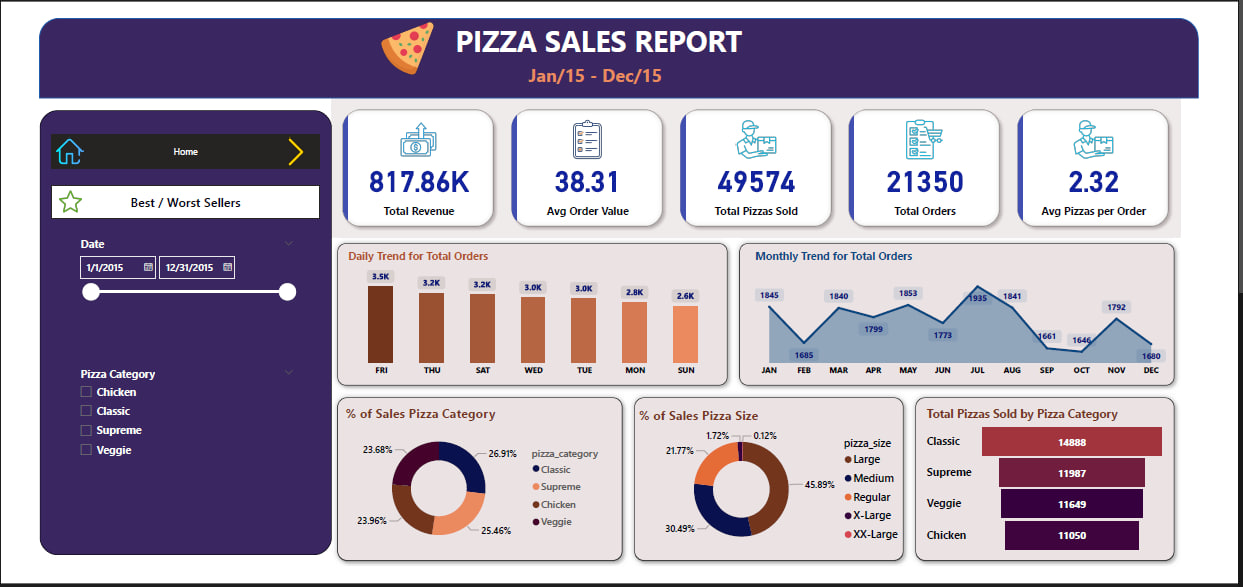

What the dashboard file says about the page in this screenshot:
{"tool":"powerbi","page":{"name":"Home","canvas":[1800,820],"ordinal":0},"visuals":[{"type":"cardVisual","fields":{"Data":["Pizza_Sales.Total Revenue","Pizza_Sales.Avg Order Value","Pizza_Sales.Total Pizzas Sold","Pizza_Sales.Total Orders","Pizza_Sales.Avg Pizzas per Order"]},"box":[470,120,1268,208],"z":0},{"type":"shape","box":[32.9,0,1732.3,120],"z":1000},{"type":"textbox","box":[629,0,480,75.5],"z":2000},{"type":"textbox","box":[758.7,61.9,220.6,58.1],"z":3000},{"type":"image","box":[470.3,0,226.5,91],"z":4000},{"type":"shape","box":[470,328,600,230],"z":5000},{"type":"columnChart","title":"Daily Trend for Total Orders","fields":{"Category":["Pizza_Sales.Order Day"],"Y":["Pizza_Sales.Total Orders"]},"box":[490,344,564,200],"z":6000},{"type":"shape","box":[1070,328,668,230],"z":7000},{"type":"areaChart","title":"Monthly Trend for Total Orders","fields":{"Category":["Pizza_Sales.Order month"],"Y":["Pizza_Sales.Total Orders"]},"box":[1098,344,622,200],"z":8000},{"type":"shape","box":[34,138,436,664],"z":9000},{"type":"shape","box":[470,558,444,262],"z":10000},{"type":"shape","box":[914,558,420,262],"z":11000},{"type":"shape","box":[1334,558,404,262],"z":12000},{"type":"donutChart","title":"% of Sales Pizza Category","fields":{"Category":["Pizza_Sales.pizza_category"],"Y":["Pizza_Sales.Total Revenue"]},"box":[486,578,410,224],"z":13000},{"type":"donutChart","title":"% of Sales Pizza Size","fields":{"Y":["Pizza_Sales.Total Revenue"],"Category":["Pizza_Sales.pizza_size"]},"box":[924.3,580,410,222.9],"z":14000},{"type":"funnel","title":"Total Pizzas Sold by Pizza Category","fields":{"Category":["Pizza_Sales.pizza_category"],"Y":["Pizza_Sales.Total Pizzas Sold"]},"box":[1354.3,578.6,365.7,224.3],"z":15000},{"type":"slicer","fields":{"Values":["Pizza_Sales.pizza_category"]},"box":[81.7,515,343.3,161.7],"z":18000},{"type":"slicer","fields":{"Values":["Pizza_Sales.order_date"]},"box":[81.7,321.7,343.3,168.3],"z":19000},{"type":"pageNavigator","box":[52.3,174.2,400.6,50.3],"z":19001},{"type":"pageNavigator","box":[52.3,249.7,400.6,50.3],"z":19002},{"type":"image","box":[379.4,174.2,73.5,50.3],"z":19003},{"type":"image","box":[54,174,50,50],"z":19004},{"type":"image","box":[54,253,52,43],"z":19005}]}

Visuals, with their boxes on the page's 1800x820 design canvas (x1, y1, x2, y2). These are canvas units, not pixel positions in the 1243x587 screenshot, which may show the page scaled, cropped or inside an application window:
cardVisual - Pizza_Sales.Total Revenue x Pizza_Sales.Avg Order Value: (470, 120, 1738, 328)
shape: (33, 0, 1765, 120)
textbox: (629, 0, 1109, 76)
textbox: (759, 62, 979, 120)
image: (470, 0, 697, 91)
shape: (470, 328, 1070, 558)
"Daily Trend for Total Orders" columnChart: (490, 344, 1054, 544)
shape: (1070, 328, 1738, 558)
"Monthly Trend for Total Orders" areaChart: (1098, 344, 1720, 544)
shape: (34, 138, 470, 802)
shape: (470, 558, 914, 820)
shape: (914, 558, 1334, 820)
shape: (1334, 558, 1738, 820)
"% of Sales Pizza Category" donutChart: (486, 578, 896, 802)
"% of Sales Pizza Size" donutChart: (924, 580, 1334, 803)
"Total Pizzas Sold by Pizza Category" funnel: (1354, 579, 1720, 803)
slicer - Pizza_Sales.pizza_category: (82, 515, 425, 677)
slicer - Pizza_Sales.order_date: (82, 322, 425, 490)
pageNavigator: (52, 174, 453, 224)
pageNavigator: (52, 250, 453, 300)
image: (379, 174, 453, 224)
image: (54, 174, 104, 224)
image: (54, 253, 106, 296)
